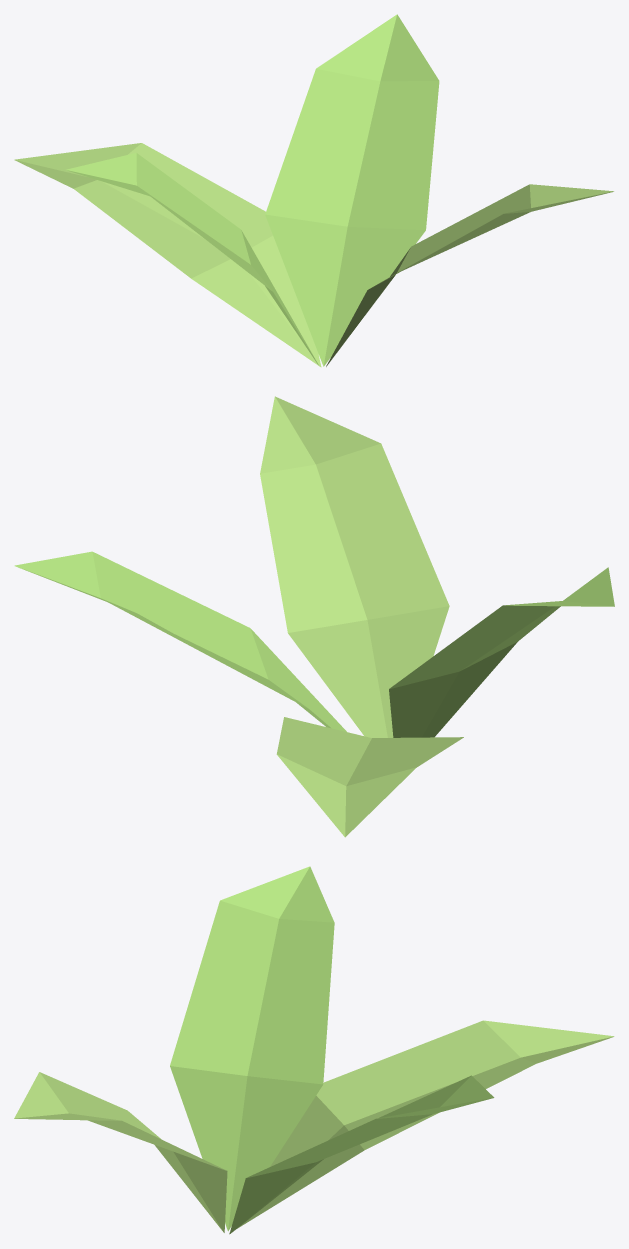
File: Plant_k_TwoS_04.fbx
The picture shows the model from 3 angles, top to bottom: view 1: azimuth 30°, elevation 25°; view 2: azimuth 150°, elevation 25°; view 3: azimuth 270°, elevation 25°; orthographic projection. The views are drawn at different scales.
Visible parts, largest first — view 1: Plant_k_TwoS_04; view 2: Plant_k_TwoS_04; view 3: Plant_k_TwoS_04.
Part boxes in pixels (x1,y1,x2,y2): Plant_k_TwoS_04: (14,14,613,367); Plant_k_TwoS_04: (14,396,614,837); Plant_k_TwoS_04: (14,866,614,1234).
Size of the model in its own units: 0.343 by 0.1771 by 0.3878.
